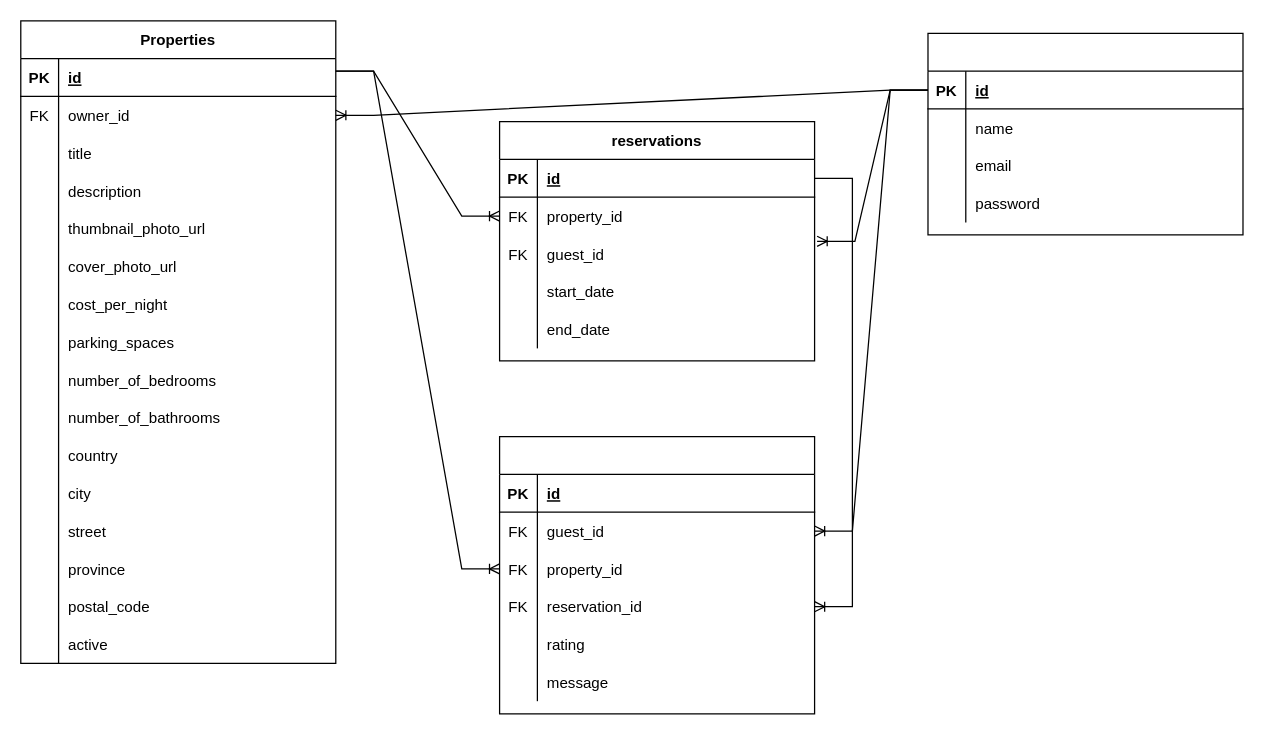
Some shapes in this 1264 by 735 pixel diagram are drawn without their labels. Each missing label, with the box of its shape:
property_reviews: (498, 435, 815, 714)
users: (927, 32, 1243, 235)
